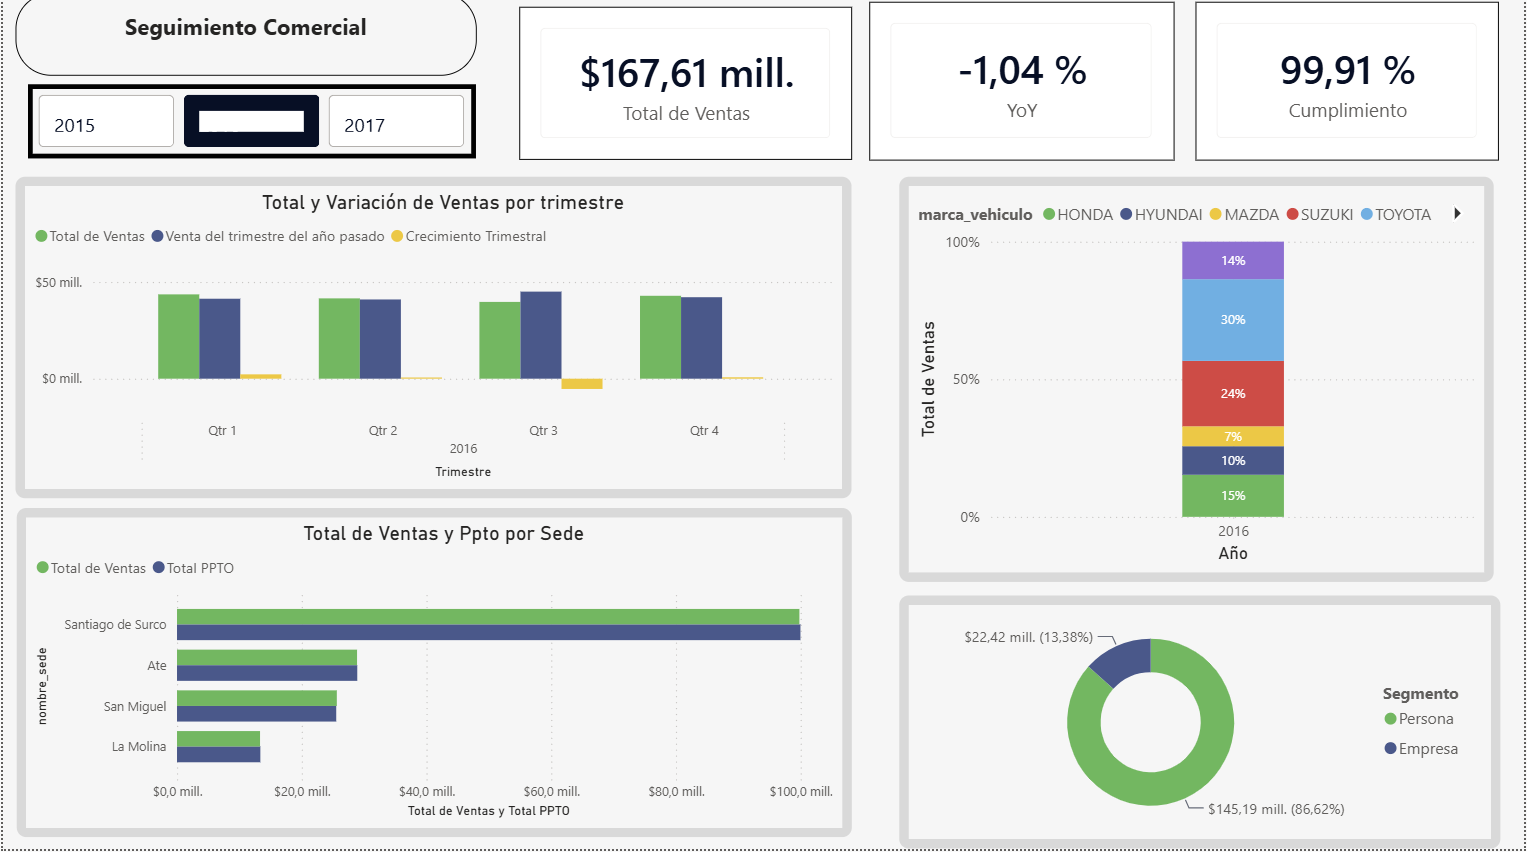

What the dashboard file says about the page in this screenshot:
{"tool":"powerbi","page":{"name":"Sales","canvas":[1280,720],"ordinal":0},"visuals":[{"type":"textbox","box":[10.5,0,388,69.4],"z":0},{"type":"advancedSlicerVisual","fields":{"Values":["DimFechas.Año"]},"box":[21.3,77.2,377.1,62.7],"z":1000},{"type":"cardVisual","fields":{"Data":["Tabla_Medidas.Total de Ventas"]},"box":[433.7,11.6,280.2,129.1],"z":2000},{"type":"cardVisual","fields":{"Data":["Tabla_Medidas.YoY"]},"box":[728.6,7.4,256.5,133.5],"z":3000},{"type":"cardVisual","fields":{"Data":["Tabla_Medidas.Cumplimiento"]},"box":[1003,7.4,255.5,133.5],"z":4000},{"type":"clusteredColumnChart","title":"Total y Variación de Ventas por trimestre","fields":{"Y":["Tabla_Medidas.Total de Ventas","Tabla_Medidas.Venta del trimestre del año pasado","Tabla_Medidas.Crecimiento Trimestral"],"Category":["DimFechas.Date.Variación.Jerarquía de fechas.Año","DimFechas.Date.Variación.Jerarquía de fechas.Trimestre"]},"box":[10.5,154.6,703.4,270.2],"z":5000},{"type":"donutChart","fields":{"Y":["Tabla_Medidas.Total de Ventas"],"Category":["Fact_Ventas.Segmento"]},"box":[752.8,154.6,499.4,270.2],"z":6000},{"type":"clusteredBarChart","title":"Total de Ventas y Ppto por Sede","fields":{"Y":["Tabla_Medidas.Total de Ventas","fact_Presupuestos.Total PPTO"],"Category":["dim_sede.nombre_sede"]},"box":[11.6,433.2,702.3,276.5],"z":7000},{"type":"hundredPercentStackedColumnChart","title":"Total de Ventas por Marca","fields":{"Category":["DimFechas.Date.Variación.Jerarquía de fechas.Año","DimFechas.Date.Variación.Jerarquía de fechas.Trimestre"],"Y":["Tabla_Medidas.Total de Ventas"],"Series":["dim_vehiculo.marca_vehiculo"]},"box":[753,433,499,277],"z":8000}]}

Visuals, with their boxes in screenshot pixels (x1, y1, x2, y2), scaled from the page's 1280x720 canvas onto the 1527x852 screenshot:
textbox: {"x1": 13, "y1": 0, "x2": 475, "y2": 82}
advancedSlicerVisual - DimFechas.Año: {"x1": 25, "y1": 91, "x2": 475, "y2": 166}
cardVisual - Tabla_Medidas.Total de Ventas: {"x1": 517, "y1": 14, "x2": 852, "y2": 166}
cardVisual - Tabla_Medidas.YoY: {"x1": 869, "y1": 9, "x2": 1175, "y2": 167}
cardVisual - Tabla_Medidas.Cumplimiento: {"x1": 1197, "y1": 9, "x2": 1501, "y2": 167}
"Total y Variación de Ventas por trimestre" clusteredColumnChart: {"x1": 13, "y1": 183, "x2": 852, "y2": 503}
donutChart - Tabla_Medidas.Total de Ventas x Fact_Ventas.Segmento: {"x1": 898, "y1": 183, "x2": 1494, "y2": 503}
"Total de Ventas y Ppto por Sede" clusteredBarChart: {"x1": 14, "y1": 513, "x2": 852, "y2": 840}
"Total de Ventas por Marca" hundredPercentStackedColumnChart: {"x1": 898, "y1": 512, "x2": 1494, "y2": 840}
